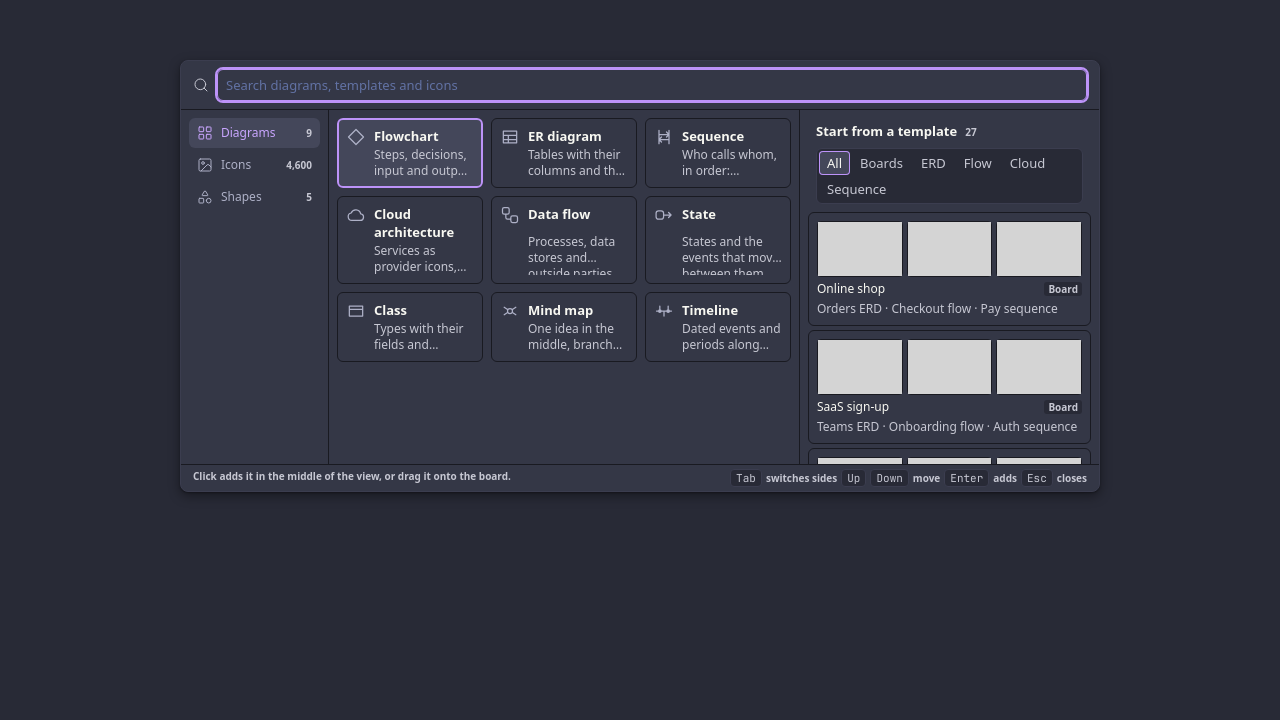
Scenario: left_and_right_edit_the_query
Type "dta" into the dropdown named "Search diagrams, templates, icons and shapes" at (652, 85), box [217, 69, 1087, 101]
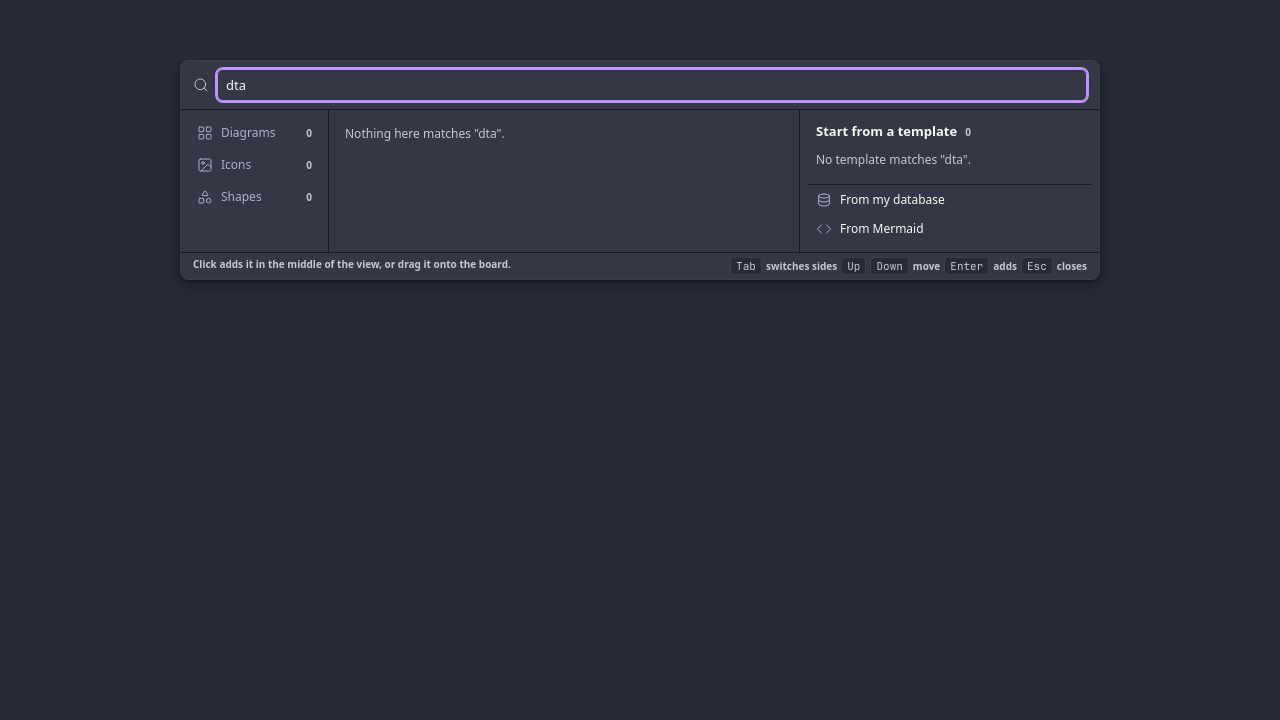
Press Arrowleft Arrowleft
Check: the dropdown named "Search diagrams, templates, icons and shapes" does not have attribute aria-activedescendant, box [217, 69, 1087, 101]
Type keys "a"
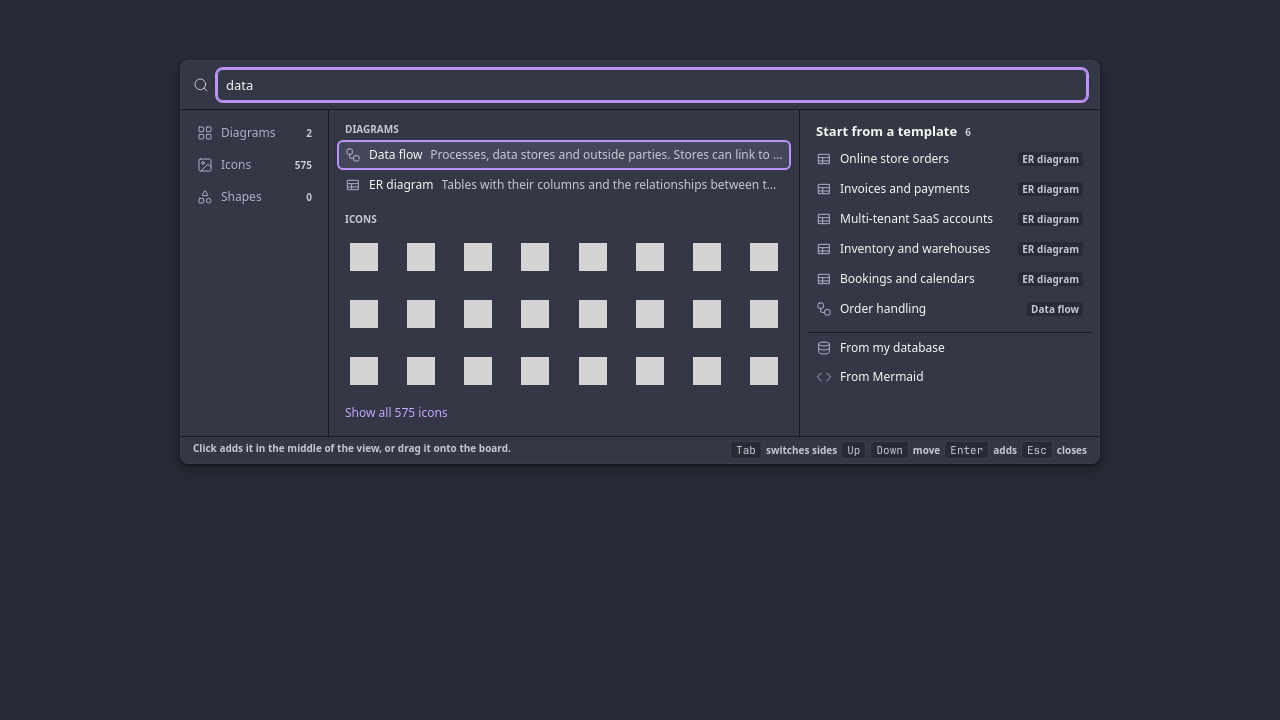
Check: the dropdown named "Search diagrams, templates, icons and shapes" holds "data", box [217, 69, 1087, 101]
